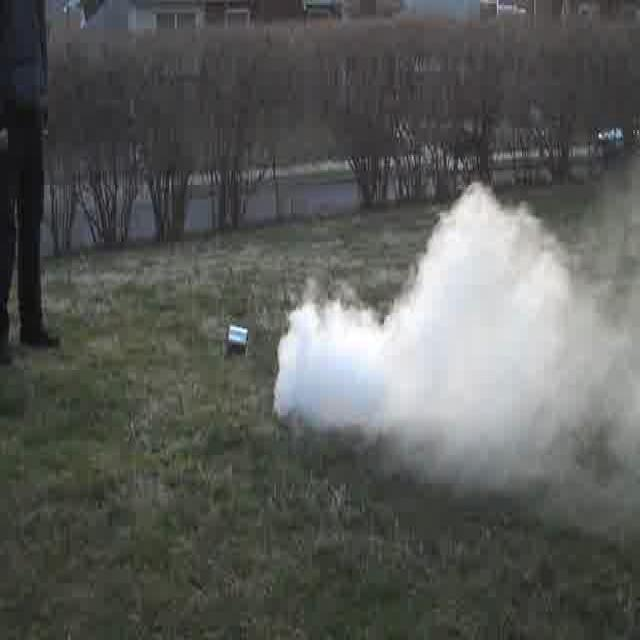Smoke: (290, 208, 635, 500)
